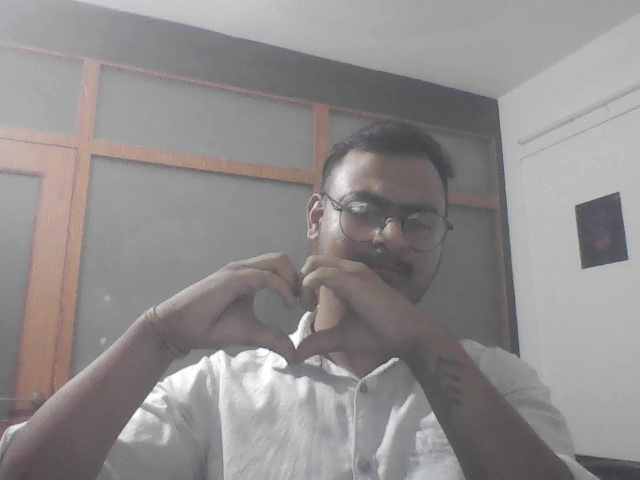Heart: (196, 246, 393, 375)
